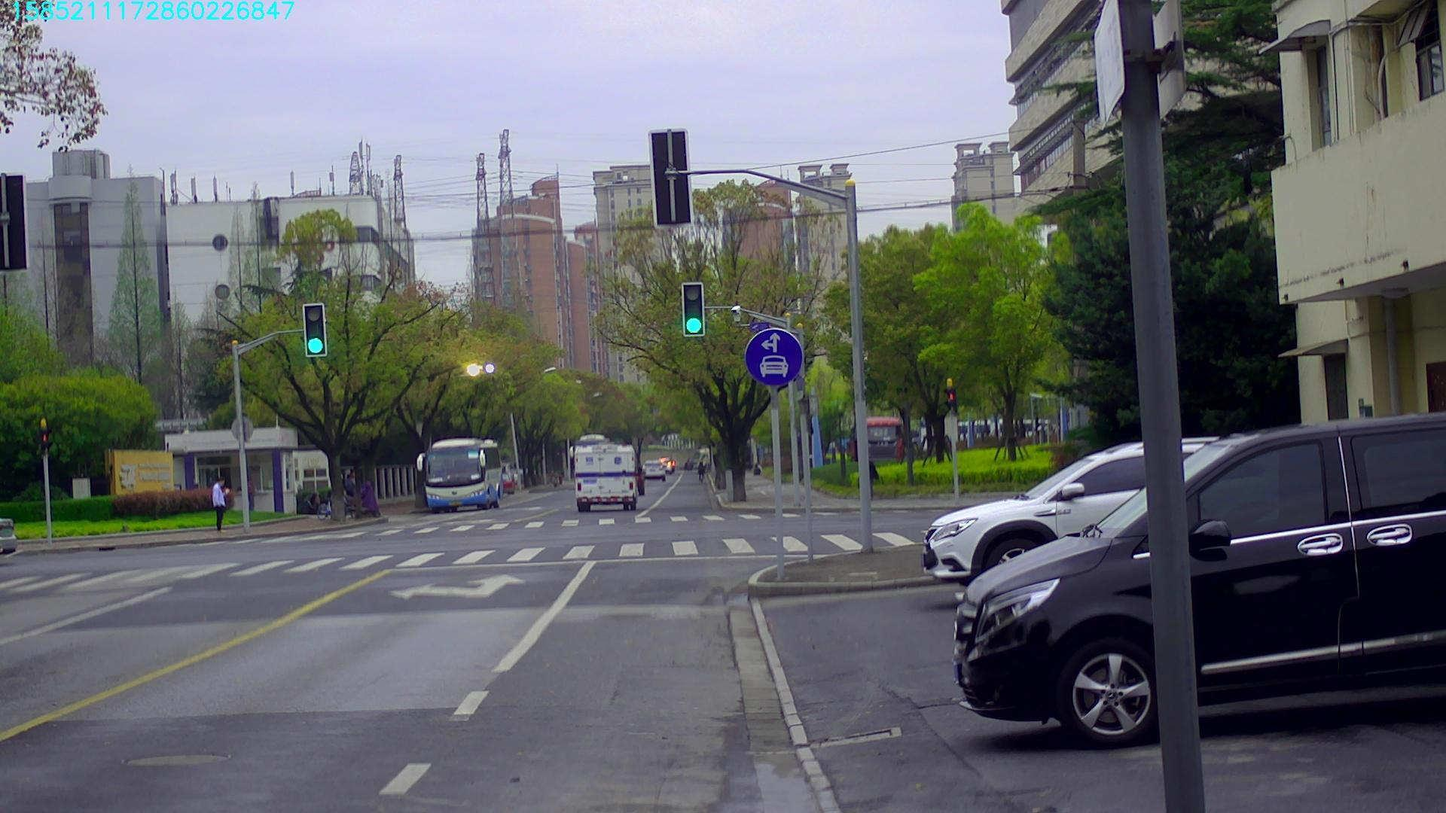green: (682, 282, 703, 335), (304, 304, 325, 355)
